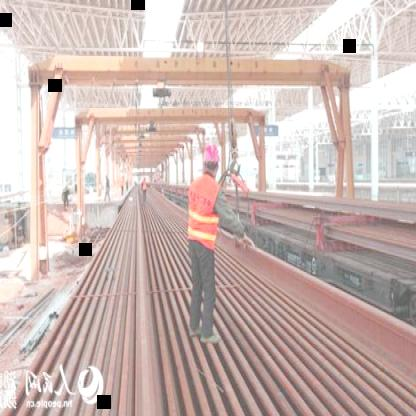helmet: (201, 142, 223, 180)
